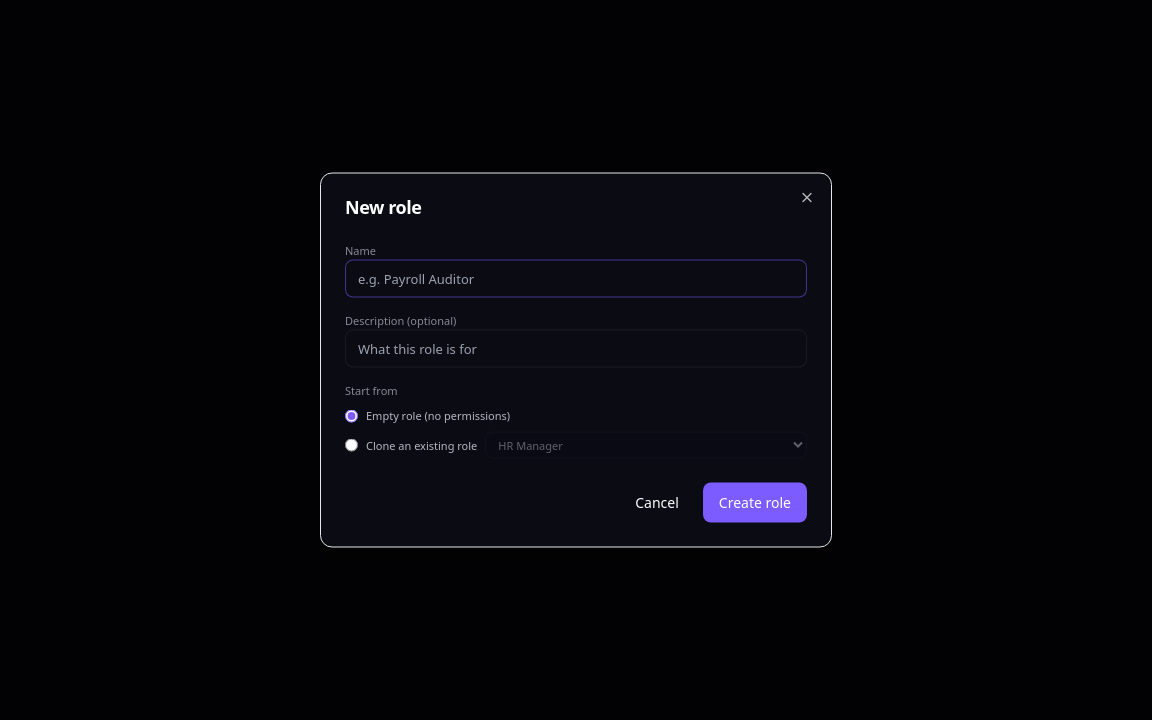
Test: RoleFormModal › blocks submit with an empty name
The width and height of the screenshot is (1152, 720).
Click the button "Create role": [755, 502] box [703, 482, 807, 522]
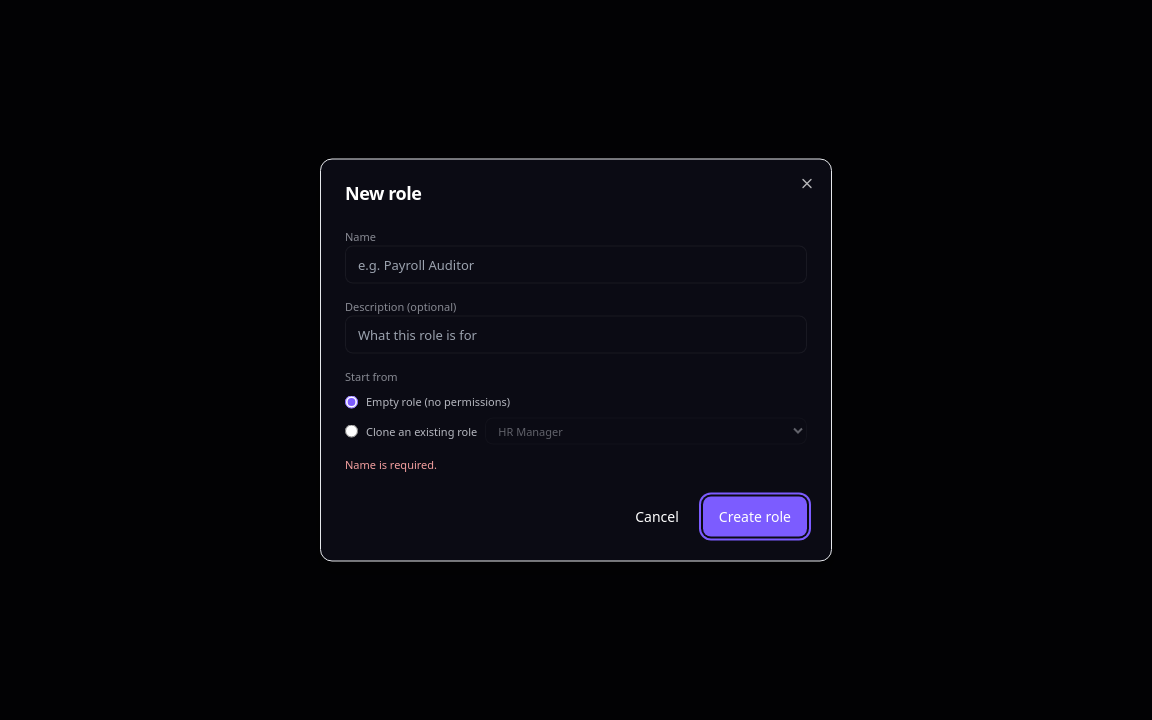
Now the text "Name is required." is shown, box [345, 456, 437, 472]
